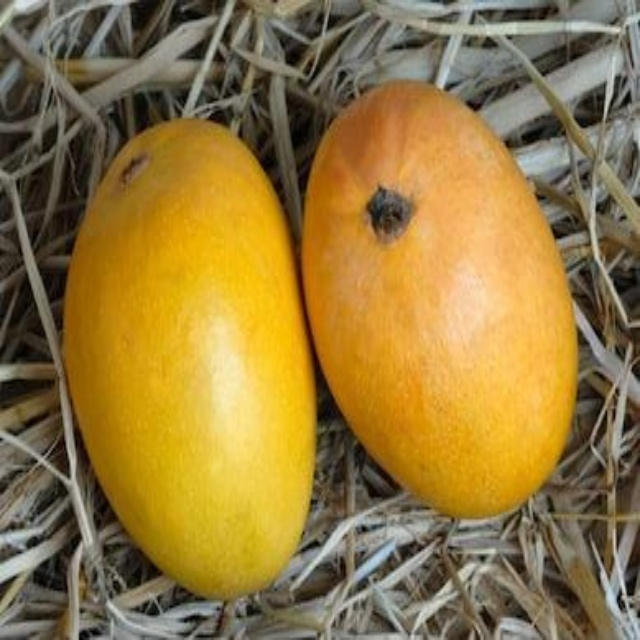mango: (303, 80, 575, 518), (67, 122, 314, 598)
